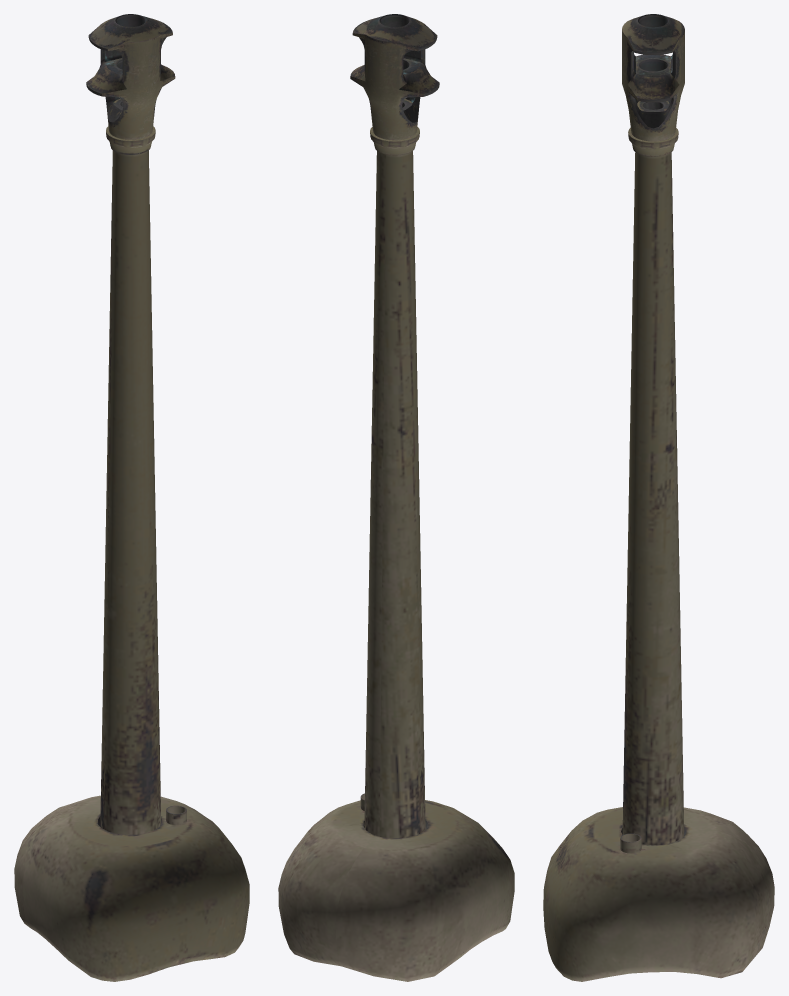
The model's file is Gun_01.glb.
3 renders of one model, left to right at view 1: azimuth 30°, elevation 25°; view 2: azimuth 150°, elevation 25°; view 3: azimuth 270°, elevation 25°, orthographic.
Visible parts, largest first — view 1: set_0_group_0; view 2: set_0_group_0; view 3: set_0_group_0.
Boxes of the visible parts, x1,y1,x2,y2 form: set_0_group_0: (14,14,249,981); set_0_group_0: (278,14,514,981); set_0_group_0: (543,14,774,981).
Bounding box in the file's own units: 1.1 × 5.27 × 1.19.
Materials: 1 (1 with a texture image).
